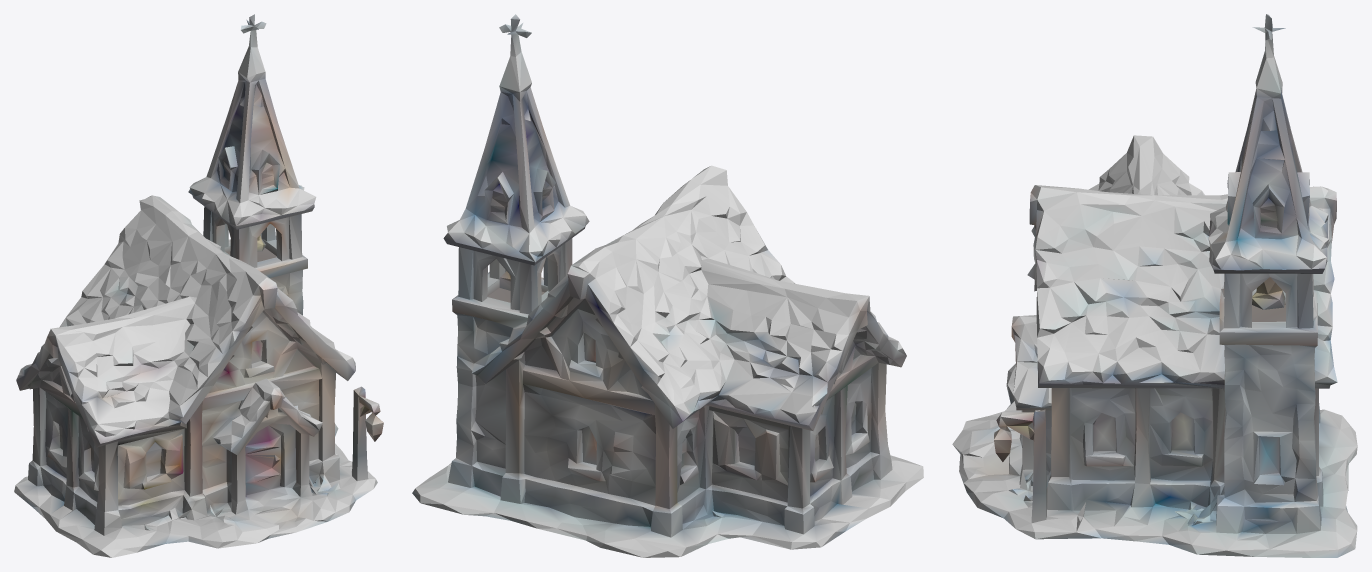
File: gen-church.glb
3 renders of one model, left to right at view 1: azimuth 30°, elevation 25°; view 2: azimuth 150°, elevation 25°; view 3: azimuth 270°, elevation 25°, orthographic. The views are drawn at different scales.
Visible parts, largest first — view 1: model; view 2: model; view 3: model.
Part boxes in pixels (box(x1,y1,x2,y2)): model: box(14, 14, 383, 557); model: box(412, 14, 923, 557); model: box(952, 14, 1357, 557).
Bounding box in the file's own units: 9.92 × 12 × 8.69.
